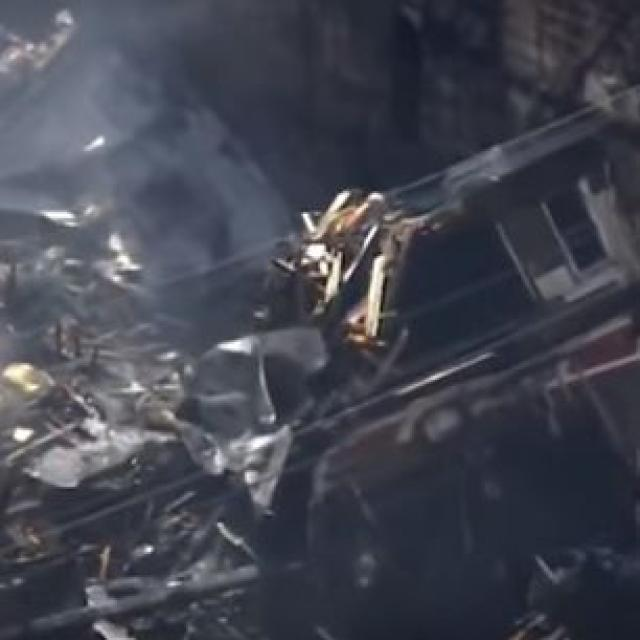collapsed_building: (0, 197, 529, 638)
